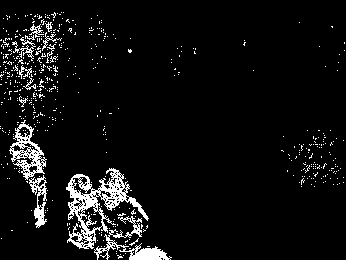person: (100, 169, 147, 259), (11, 123, 48, 226), (66, 174, 106, 260)
